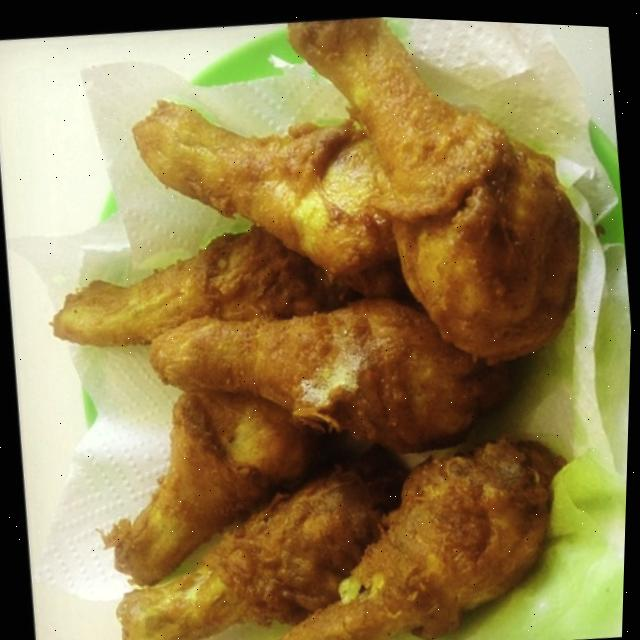鸡肉料理 含炸鸡: (33, 26, 639, 640)
